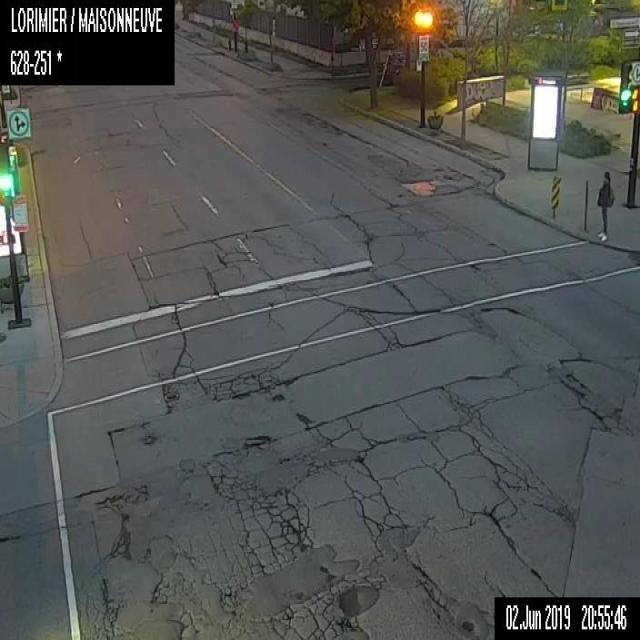pedestrian: (594, 169, 612, 240)
